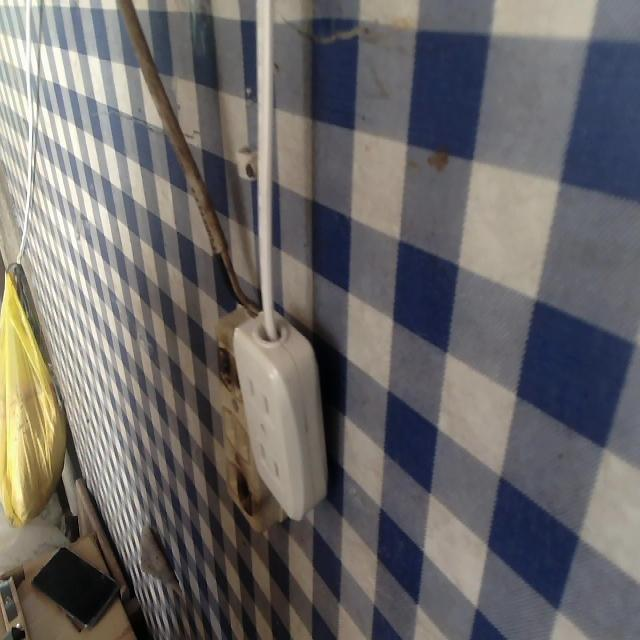-: (214, 338, 245, 398), (235, 469, 257, 516)
